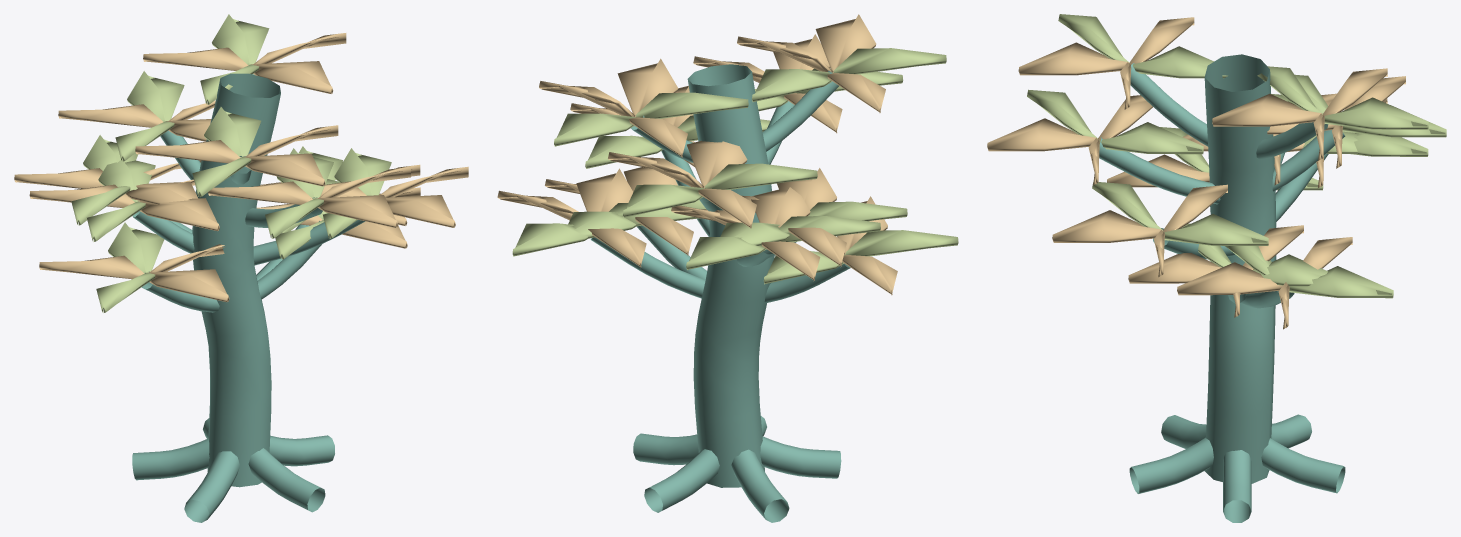
Rendered from bio_canopy_tree_21_far.glb.
3 views of the same model, side by side, from view 1: azimuth 30°, elevation 25°; view 2: azimuth 150°, elevation 25°; view 3: azimuth 270°, elevation 25° (orthographic). The views are drawn at different scales.
Parts seen in each view (by area): view 1: Buttressed trunk, Broad canopy leaf.035, Broad canopy leaf.015, Broad canopy leaf.010, Broad canopy leaf.020, Broad canopy leaf.005, Broad canopy leaf.045, Broad canopy leaf.036, Broad canopy leaf.025, Broad canopy leaf.021, Broad canopy leaf.031, Broad canopy leaf.030 (+7 smaller); view 2: Buttressed trunk, Broad canopy leaf.035, Broad canopy leaf.015, Broad canopy leaf.030, Broad canopy leaf.016, Broad canopy leaf.031, Broad canopy leaf.036, Broad canopy leaf.040, Broad canopy leaf.005, Broad canopy leaf.006, Broad canopy leaf.021, Broad canopy leaf.046 (+9 smaller); view 3: Buttressed trunk, Broad canopy leaf.035, Broad canopy leaf.015, Broad canopy leaf.025, Broad canopy leaf.010, Broad canopy leaf.011, Broad canopy leaf.026, Broad canopy leaf.040, Broad canopy leaf.016, Broad canopy leaf.036, Broad canopy leaf, Broad canopy leaf.041 (+6 smaller).
Part boxes in pixels (left/top/right/bottom): Buttressed trunk: left=132, top=73, right=365, bottom=522; Broad canopy leaf.035: left=135, top=125, right=338, bottom=186; Broad canopy leaf.015: left=143, top=33, right=346, bottom=93; Broad canopy leaf.010: left=208, top=166, right=410, bottom=227; Broad canopy leaf.020: left=39, top=244, right=229, bottom=302; Broad canopy leaf.005: left=14, top=160, right=201, bottom=204; Broad canopy leaf.045: left=29, top=179, right=219, bottom=231; Broad canopy leaf.036: left=192, top=107, right=261, bottom=197; Broad canopy leaf.025: left=321, top=166, right=468, bottom=227; Broad canopy leaf.021: left=96, top=222, right=164, bottom=312; Broad canopy leaf.031: left=115, top=71, right=184, bottom=161; Broad canopy leaf.030: left=58, top=100, right=215, bottom=141; Buttressed trunk: left=590, top=64, right=850, bottom=522; Broad canopy leaf.035: left=737, top=14, right=885, bottom=112; Broad canopy leaf.015: left=539, top=58, right=687, bottom=157; Broad canopy leaf.030: left=608, top=140, right=756, bottom=228; Broad canopy leaf.016: left=554, top=92, right=748, bottom=146; Broad canopy leaf.031: left=623, top=163, right=817, bottom=217; Broad canopy leaf.036: left=752, top=48, right=946, bottom=101; Broad canopy leaf.040: left=497, top=168, right=646, bottom=267; Broad canopy leaf.005: left=671, top=187, right=820, bottom=281; Broad canopy leaf.006: left=686, top=216, right=880, bottom=269; Broad canopy leaf.021: left=763, top=230, right=958, bottom=284; Broad canopy leaf.046: left=720, top=201, right=907, bottom=245; Buttressed trunk: left=1099, top=54, right=1345, bottom=522; Broad canopy leaf.035: left=1018, top=17, right=1194, bottom=109; Broad canopy leaf.015: left=1212, top=68, right=1387, bottom=160; Broad canopy leaf.025: left=1052, top=184, right=1227, bottom=277; Broad canopy leaf.010: left=987, top=95, right=1152, bottom=185; Broad canopy leaf.011: left=1027, top=89, right=1203, bottom=154; Broad canopy leaf.026: left=1092, top=182, right=1268, bottom=245; Broad canopy leaf.040: left=1177, top=237, right=1352, bottom=329; Broad canopy leaf.016: left=1257, top=66, right=1428, bottom=129; Broad canopy leaf.036: left=1058, top=14, right=1227, bottom=78; Broad canopy leaf: left=1128, top=225, right=1303, bottom=317; Broad canopy leaf.041: left=1225, top=246, right=1393, bottom=298.
Size of the model in its own units: 3.06 by 3.05 by 3.05.
